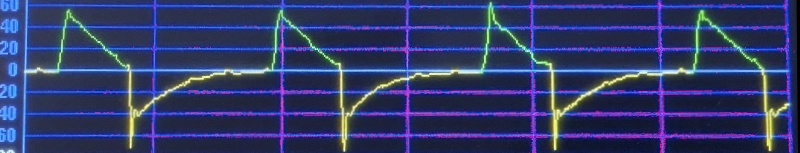normal_flow: (30, 1, 785, 153)
